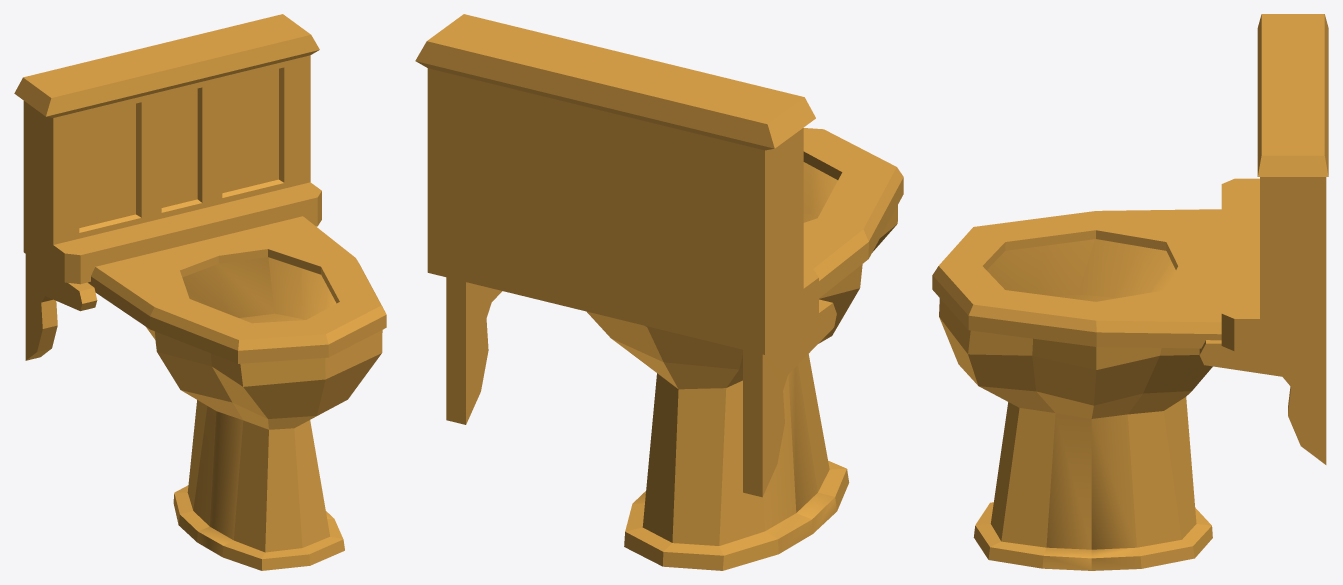
The model's file is SM_Toilet_Victorian_B.fbx.
3 views of the same model, side by side, from view 1: azimuth 30°, elevation 25°; view 2: azimuth 150°, elevation 25°; view 3: azimuth 270°, elevation 25° (orthographic). The views are drawn at different scales.
Visible parts, largest first — view 1: toilet-victorian-b; view 2: toilet-victorian-b; view 3: toilet-victorian-b.
Boxes of the visible parts, bbox=[...] form: toilet-victorian-b: bbox=[14, 14, 386, 570]; toilet-victorian-b: bbox=[415, 14, 903, 570]; toilet-victorian-b: bbox=[932, 14, 1328, 570].
Bounding box in the file's own units: 0.58 × 0.8205 × 0.6496.
